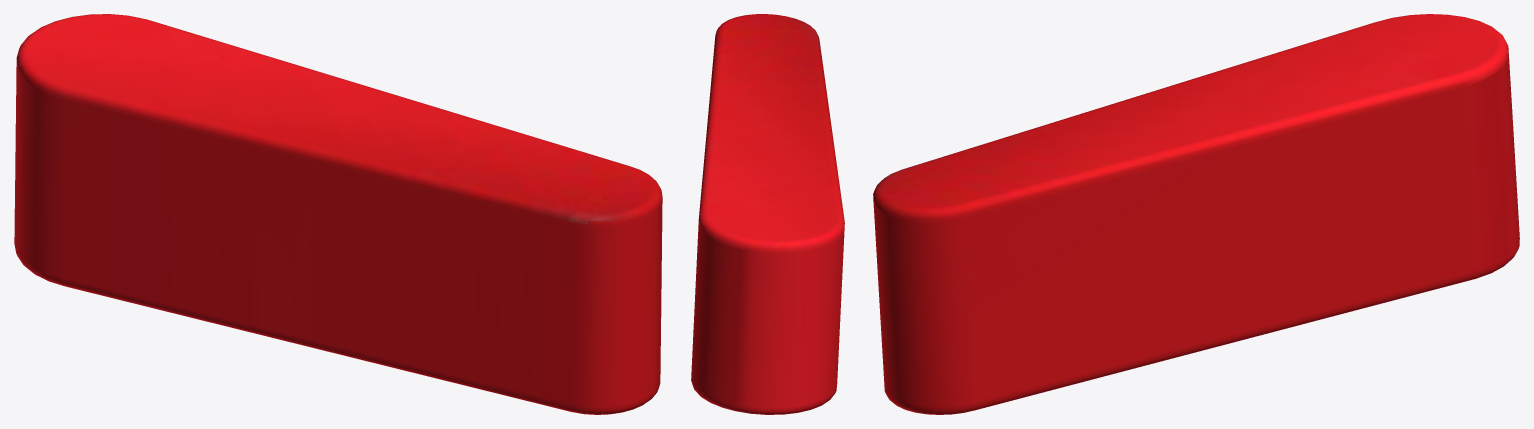
The model's file is paleta_superior_der.obj.
The picture shows the model from 3 angles, left to right: view 1: azimuth 30°, elevation 25°; view 2: azimuth 150°, elevation 25°; view 3: azimuth 270°, elevation 25°; orthographic projection. The views are drawn at different scales.
Parts seen in each view (by area): view 1: paleta_superior_der; view 2: paleta_superior_der; view 3: paleta_superior_der.
Part boxes in pixels (x1,y1,x2,y2): paleta_superior_der: (14,14,662,414); paleta_superior_der: (691,14,844,414); paleta_superior_der: (873,14,1519,414).
Size of the model in its own units: 0.8089 by 0.4634 by 1.19.
